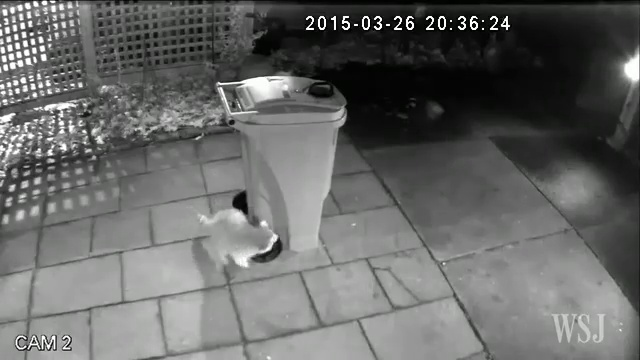raccoon: (188, 207, 282, 270)
